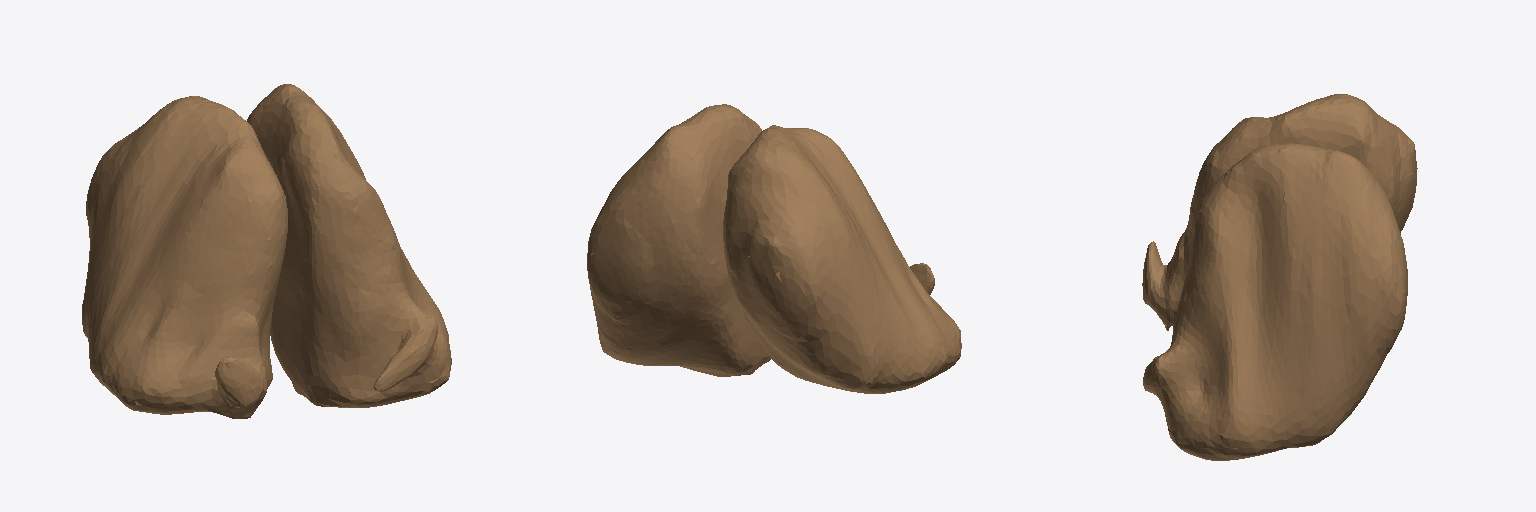
The model's file is thalamus.obj.
3 renders of one model, left to right at view 1: azimuth 30°, elevation 25°; view 2: azimuth 150°, elevation 25°; view 3: azimuth 270°, elevation 25°, orthographic.
Parts seen in each view (by area): view 1: Thalamus_Thalamus.001; view 2: Thalamus_Thalamus.001; view 3: Thalamus_Thalamus.001.
Part boxes in pixels (x1,y1,x2,y2): Thalamus_Thalamus.001: (82, 84, 451, 418); Thalamus_Thalamus.001: (587, 104, 961, 393); Thalamus_Thalamus.001: (1142, 94, 1417, 460).
Bounding box in the file's own units: 117 × 96.14 × 84.11.